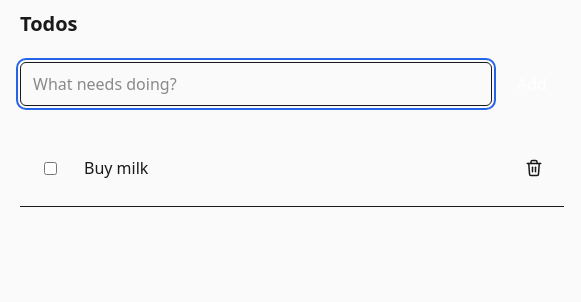
Test: <App /> integration — full tree with mocked fetch › toggle failure → Retry succeeds → row moves to Completed, error unmounts (AC4)
Expected: the text "Buy milk" is shown, left=84, top=157, right=148, bottom=179
Click the checkbox named "Mark complete: Buy milk" at (50, 168), box left=44, top=162, right=56, bottom=174
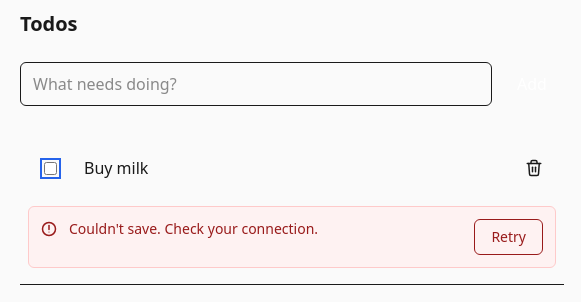
Expected: the message shows "Couldn't save. Check your connection.", left=69, top=219, right=318, bottom=238
Click the button "Retry" at (509, 237), box left=474, top=219, right=543, bottom=255
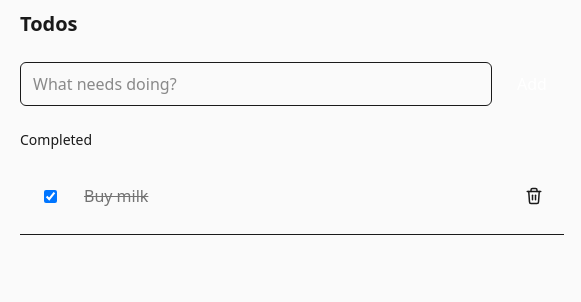
Expected: the heading "Completed" is shown, left=20, top=130, right=92, bottom=149
Expected: the checkbox named "Mark incomplete: Buy milk" is shown, left=44, top=190, right=56, bottom=202
Expected: the message "Couldn't save. Check your connection. Retry" is gone
